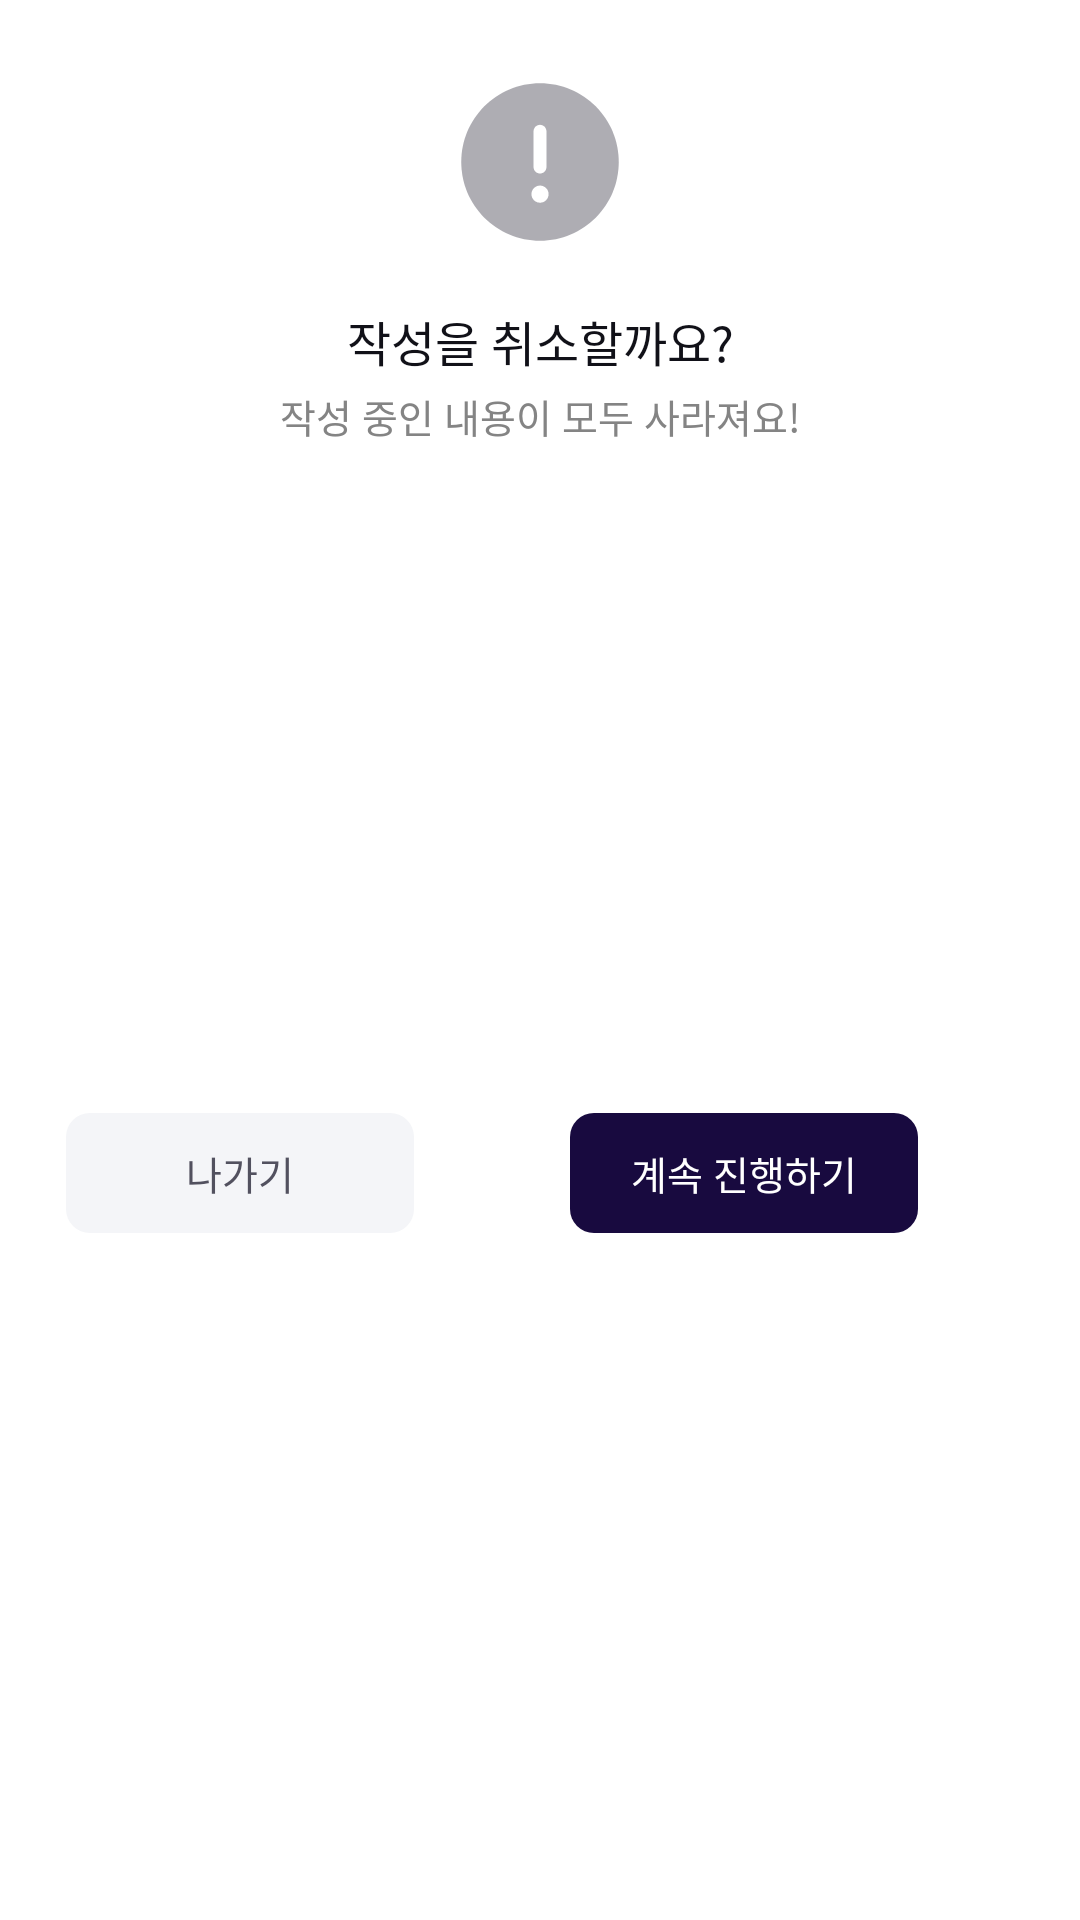

Icons on this 1080 × 1920 Android screen, each with its box as Rect(x1, y1, x2, y2):
warning circle: Rect(461, 83, 619, 241)
